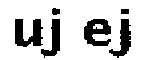e: (80, 17, 113, 48)
j: (110, 6, 133, 60), (42, 8, 64, 60)
u: (12, 14, 44, 47)
